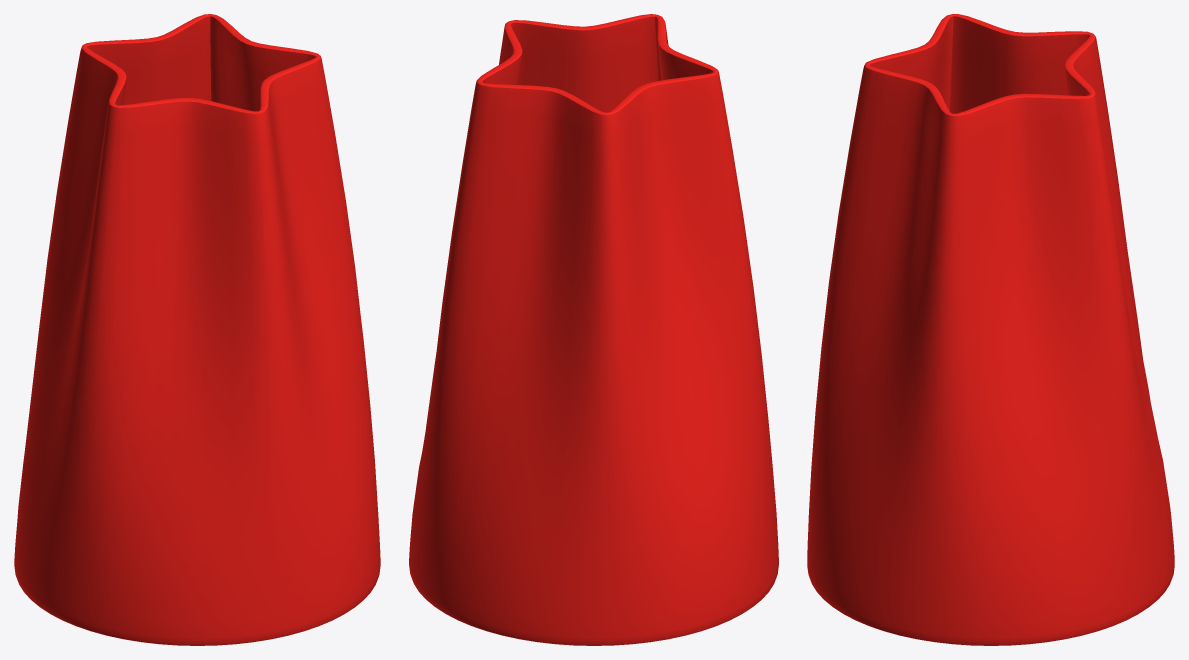
File: TVXQ_02.glb
3 renders of one model, left to right at view 1: azimuth 30°, elevation 25°; view 2: azimuth 150°, elevation 25°; view 3: azimuth 270°, elevation 25°, orthographic.
Visible parts, largest first — view 1: TVXQ_02; view 2: TVXQ_02; view 3: TVXQ_02.
Boxes of the visible parts, x1,y1,x2,y2 form: TVXQ_02: (14,14,380,645); TVXQ_02: (409,14,778,645); TVXQ_02: (807,14,1174,645).
Bounding box in the file's own units: 0.1124 × 0.1704 × 0.1125.
